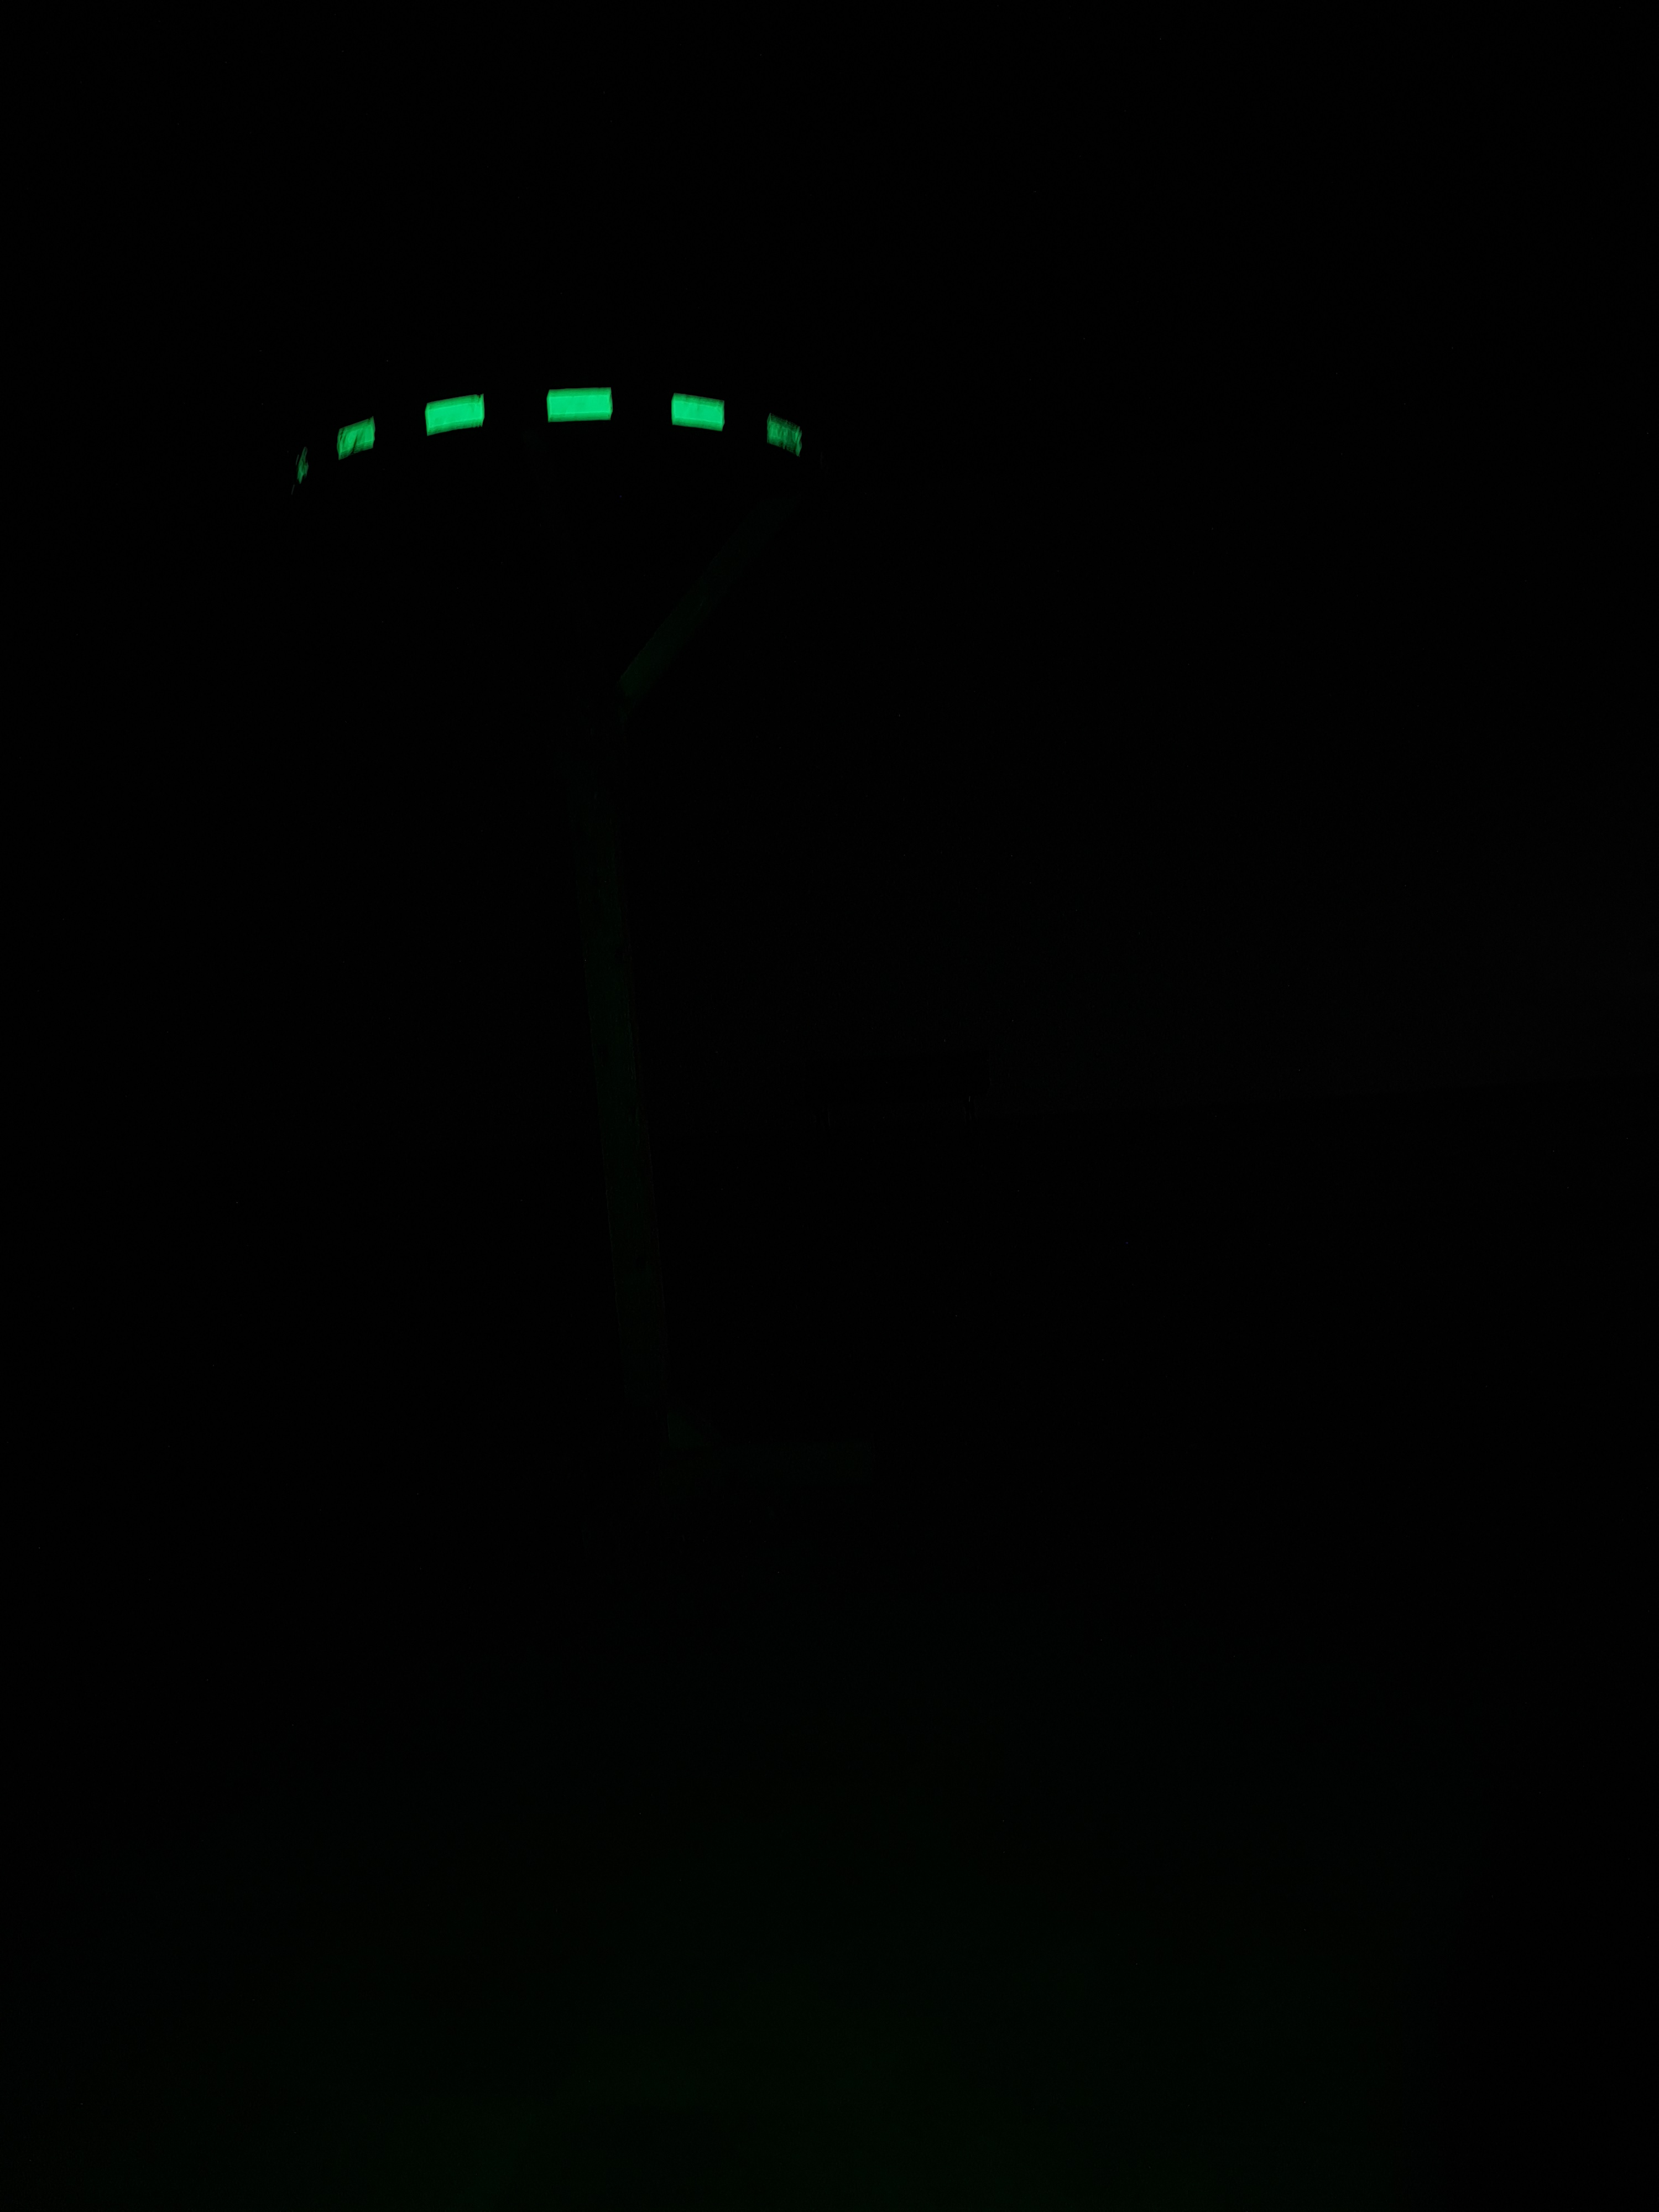hoop: (298, 380, 812, 503)
